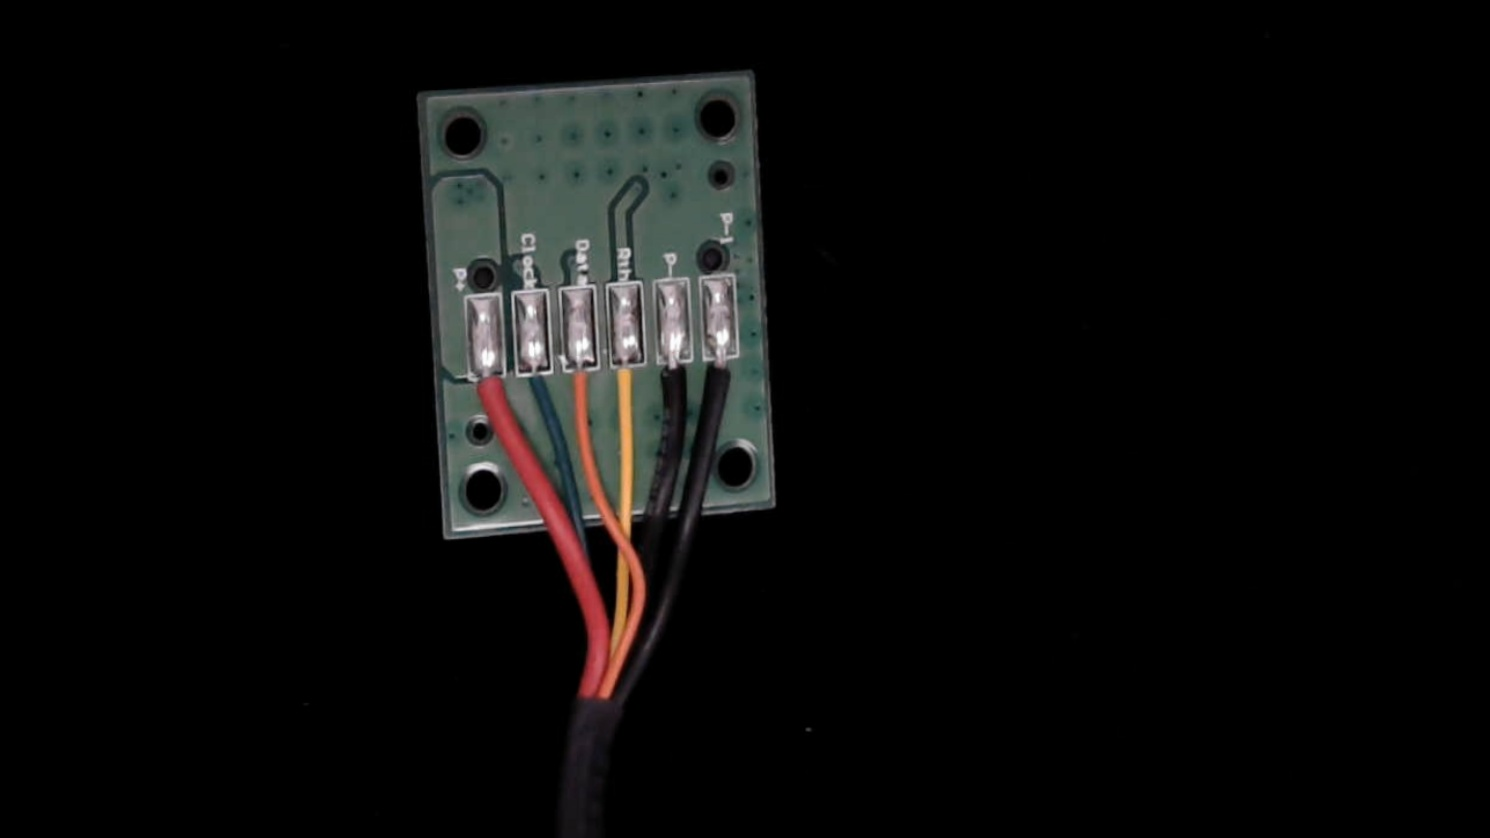Black: (655, 340, 696, 438)
Black1: (702, 338, 742, 428)
Green: (514, 347, 554, 428)
Orange: (562, 345, 601, 442)
Red: (469, 351, 510, 431)
Yellow: (608, 341, 651, 440)
